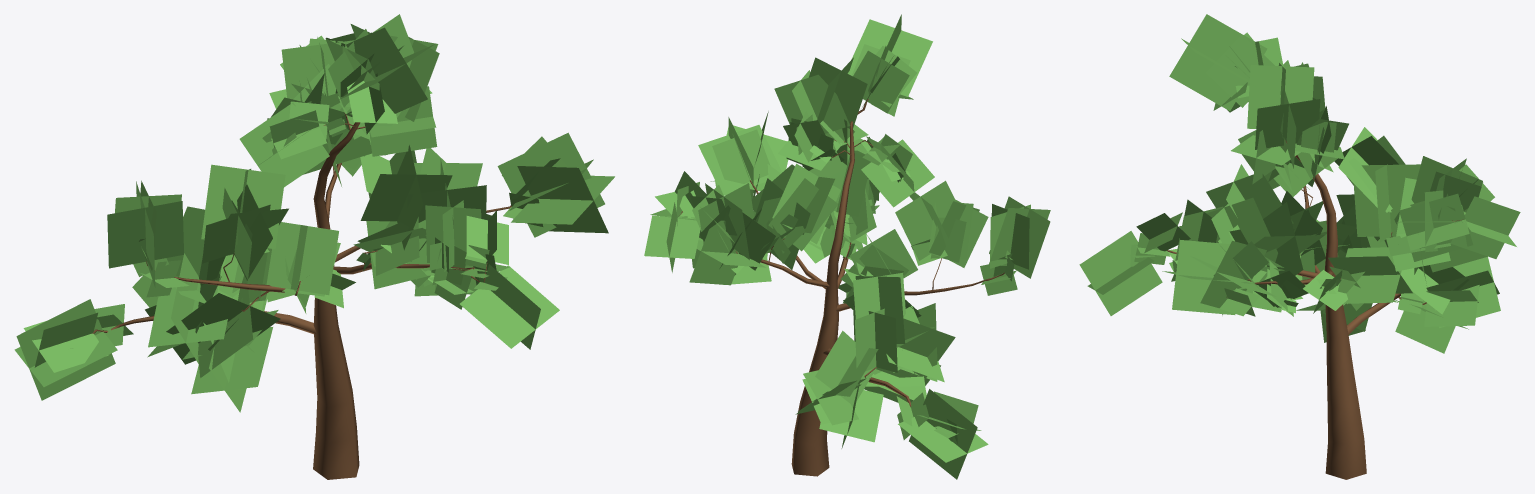
Rendered from tree-deciduous-b.glb.
3 views of the same model, side by side, from view 1: azimuth 30°, elevation 25°; view 2: azimuth 150°, elevation 25°; view 3: azimuth 270°, elevation 25° (orthographic). The views are drawn at different scales.
Size of the model in its own units: 21.34 by 22.54 by 20.36.
